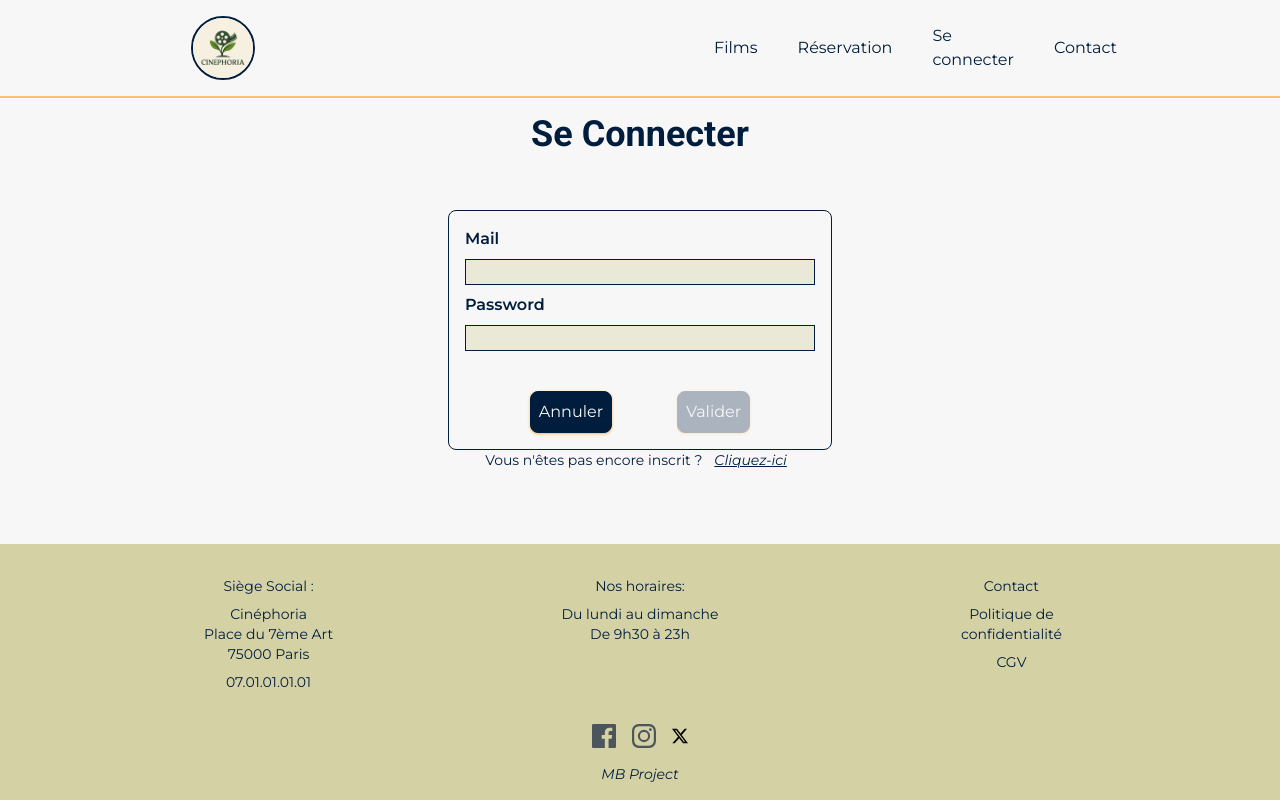
Test: Login Flow › should login successfully with valid credentials employee and display right header
Type "employee.user@gmail.com" into the field at [640, 272], box [465,259,815,285]
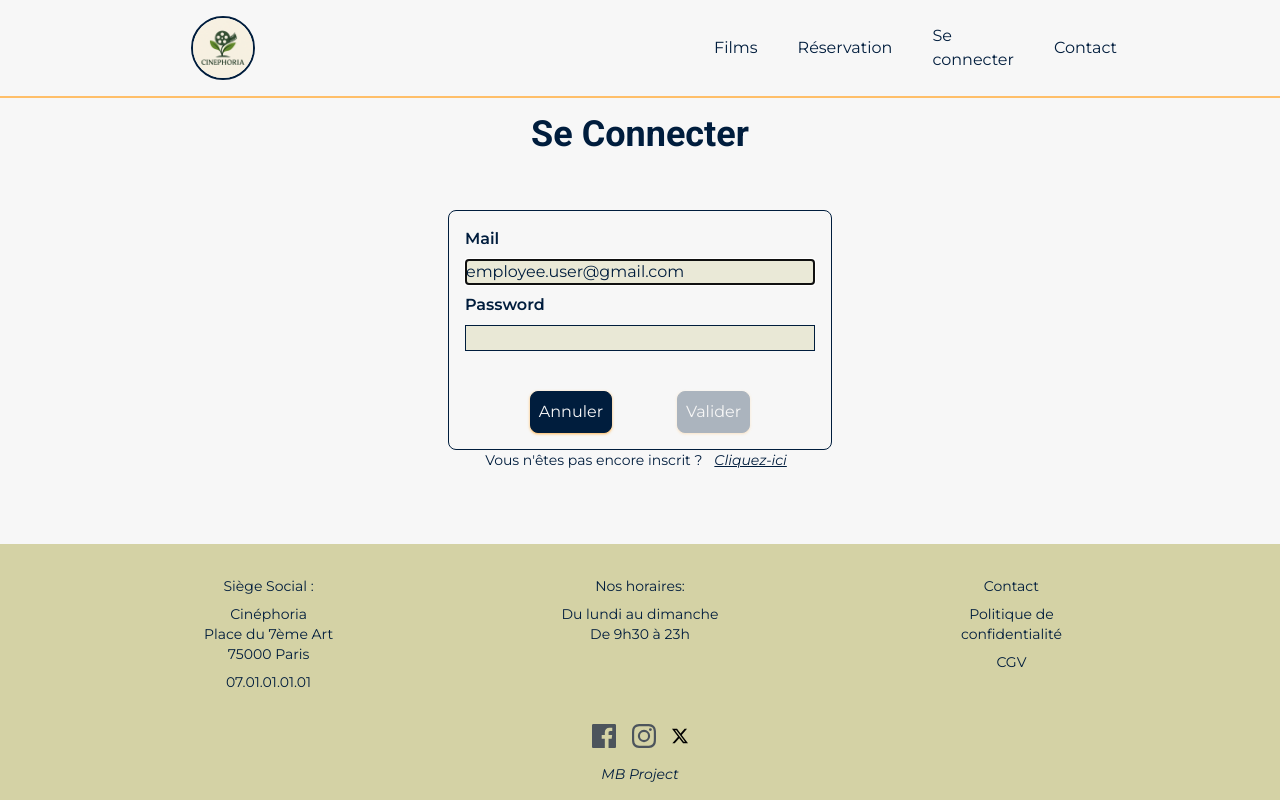
Type "Qsdfghjklm&2" into the password field at [640, 338], box [465,325,815,351]
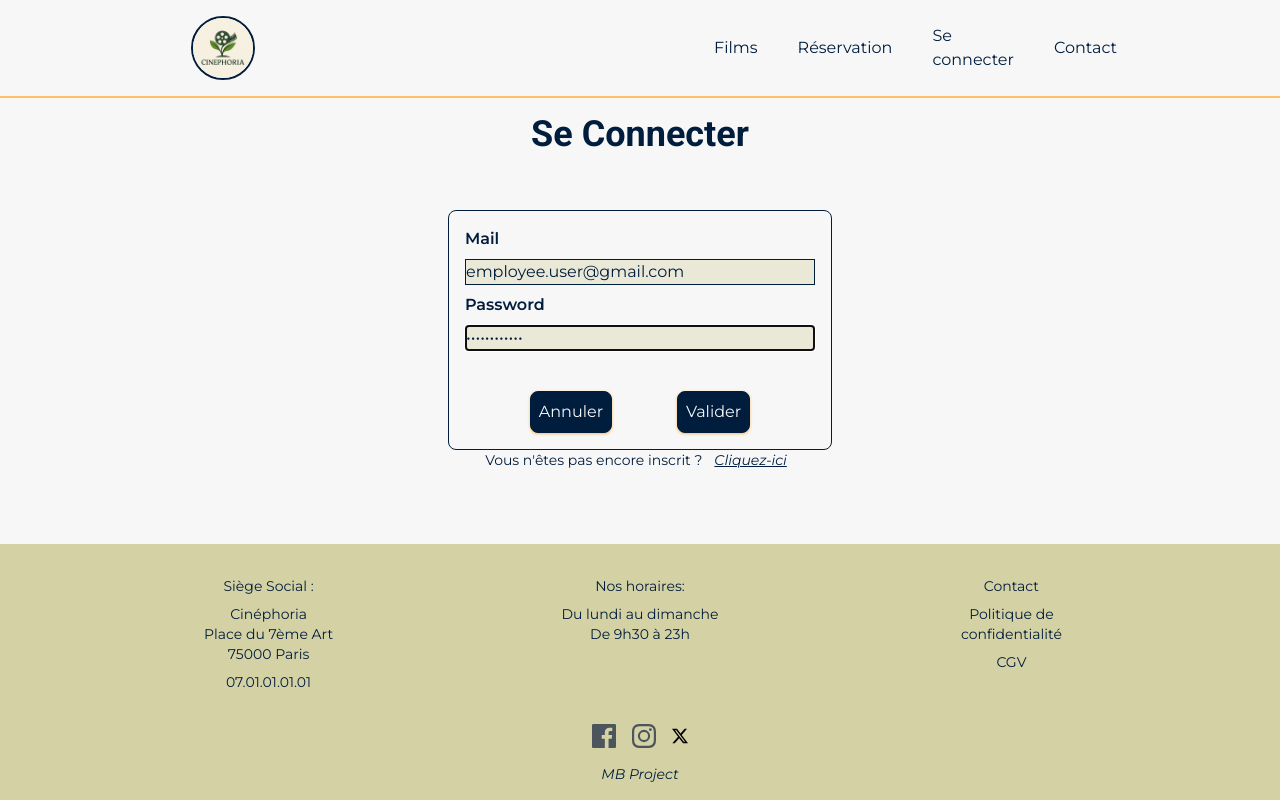
Click the button with test id "submit-form-btn" at [714, 412], box [677,391,750,433]
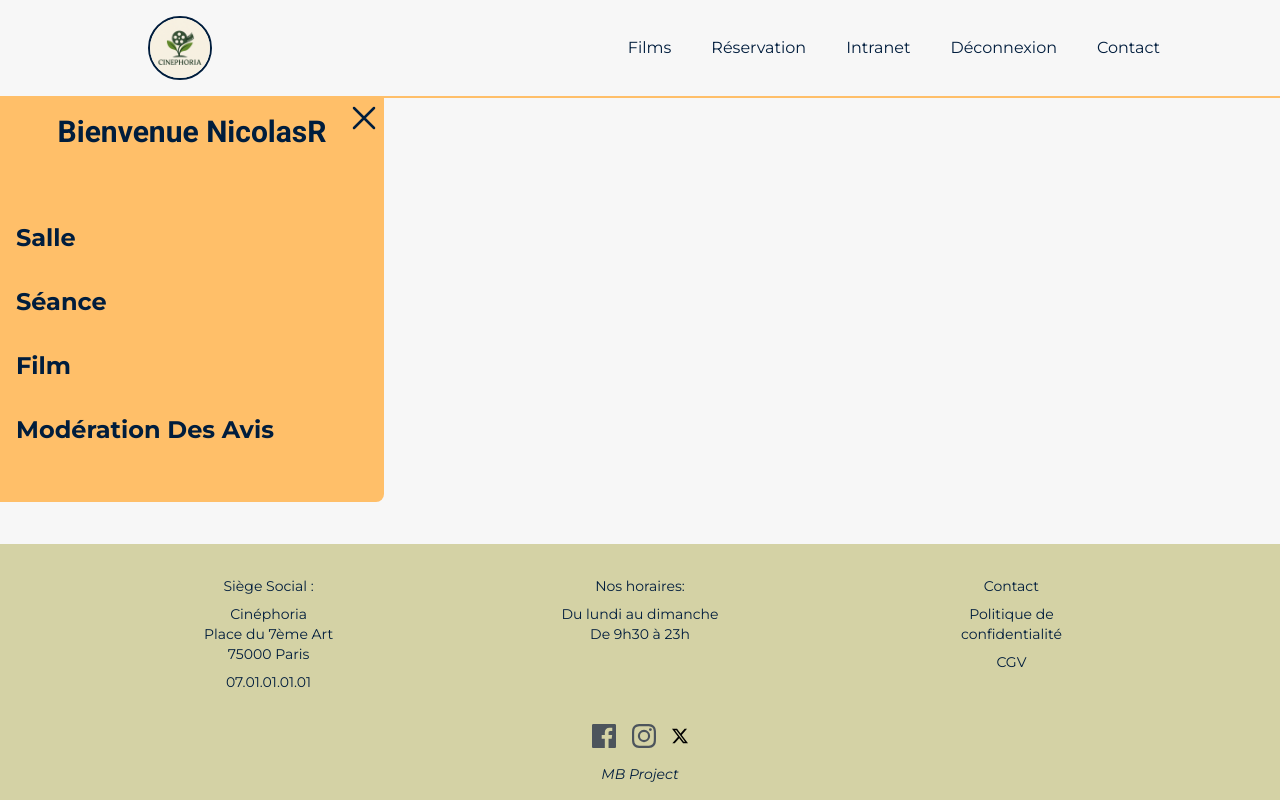
expect the heading with test id "welcome-message" shows "Bienvenue": met, box [58,114,327,149]
expect the text with test id "navbar-logout" reads "Déconnexion": met, box [950,38,1057,57]
expect the text with test id "navbar-intranet" reads "Intranet": met, box [846,38,910,57]
